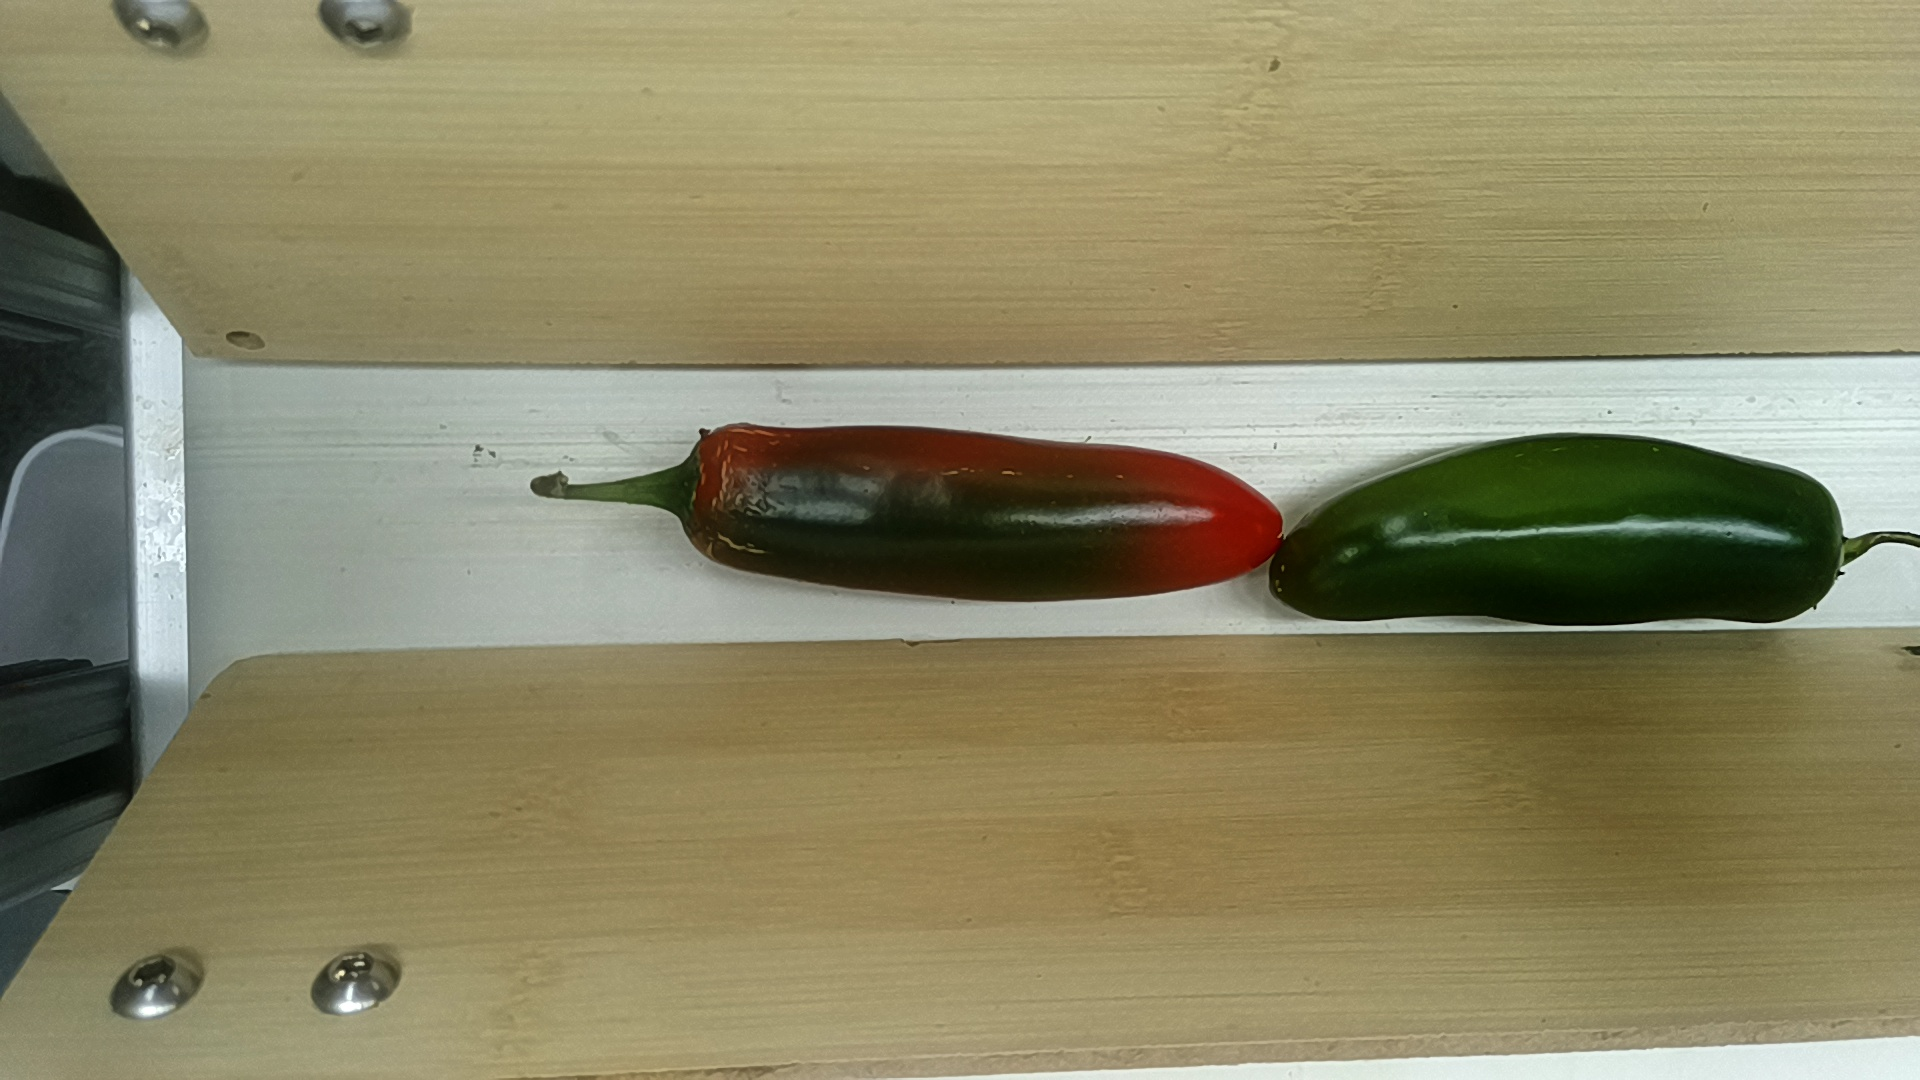Cut Point: (1793, 465, 1862, 629), (671, 418, 737, 578)
